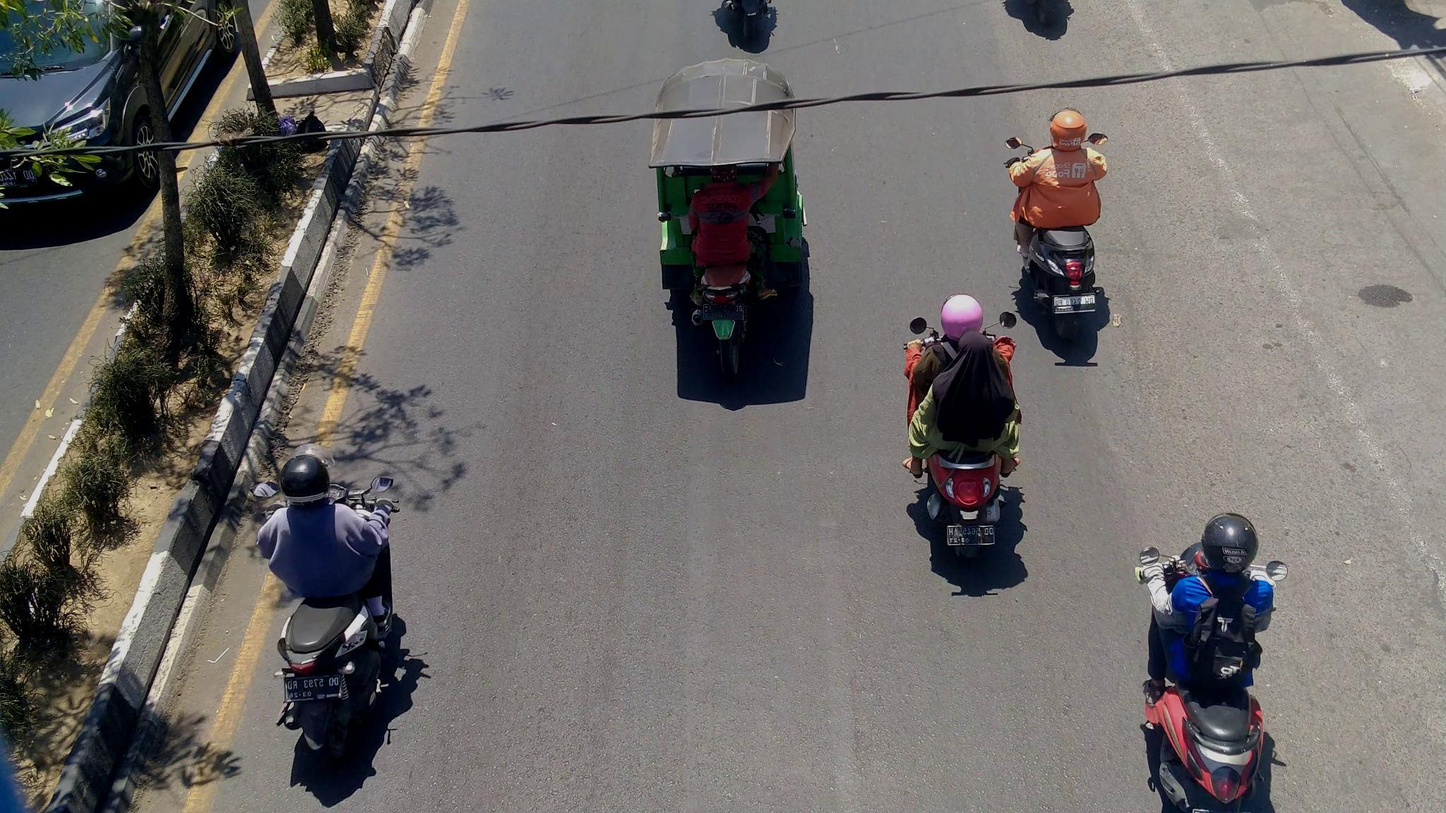Helmet: (275, 442, 340, 515), (1199, 508, 1263, 578), (935, 288, 989, 346), (1045, 105, 1090, 153)
bike: (650, 60, 812, 370), (250, 470, 400, 755), (903, 311, 1024, 554), (1005, 128, 1113, 330)
no-helmet: (948, 326, 1001, 378)
number-plate: (281, 672, 342, 702), (945, 524, 999, 547), (1054, 292, 1100, 315), (708, 317, 737, 341)
rider: (1137, 543, 1290, 813), (253, 445, 400, 633), (1143, 508, 1275, 697), (907, 330, 1021, 477), (902, 292, 1017, 419), (680, 168, 783, 302), (1010, 106, 1109, 235)
